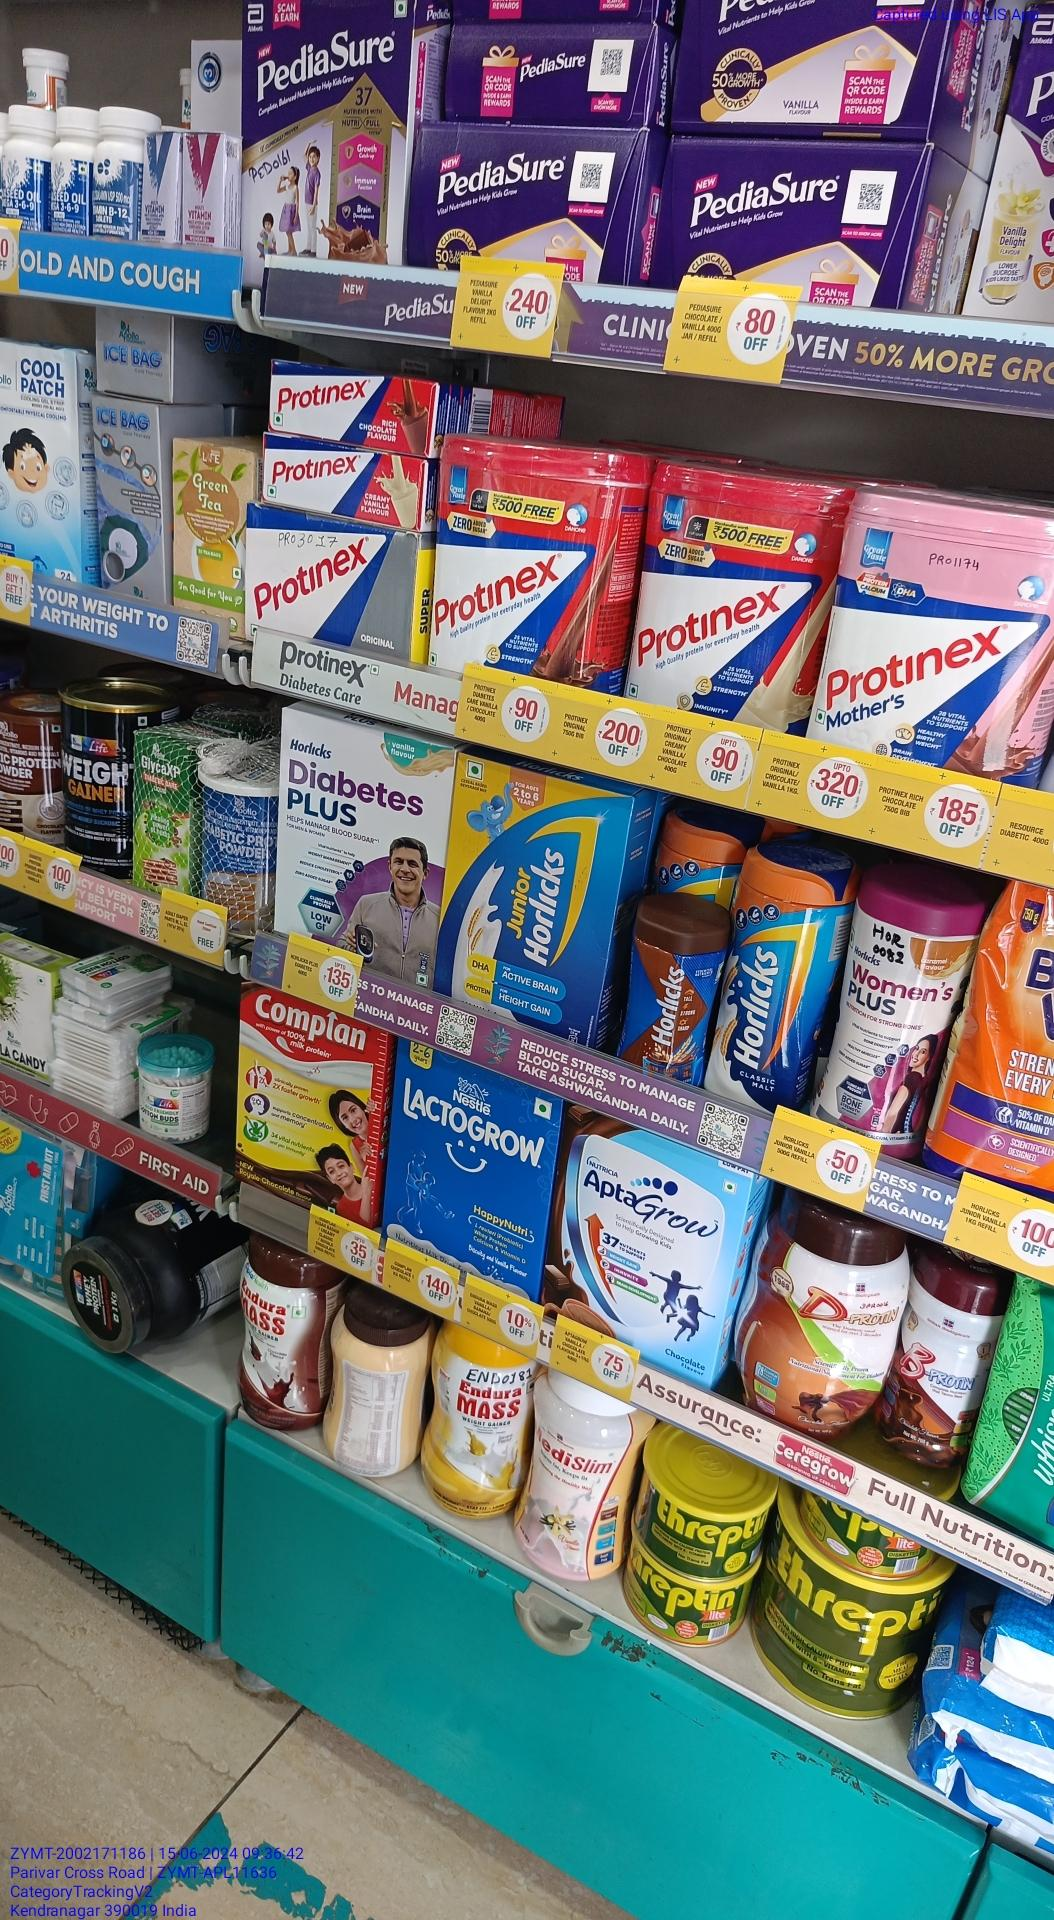COMPLAN_CHOCOLATE_500_GMS_PACK: (232, 995, 383, 1223)
HORLICK_CHOCOLATE_200_G_JAR: (624, 918, 715, 1079)
PEDIASURE_CHOCOLATE_500_G_PACK: (241, 0, 401, 265)
PROTINEX_CHOCOLATE_400_G_JAR: (427, 429, 607, 685)
PROTINEX_VANILLA_400_G_JAR: (620, 463, 823, 732)
